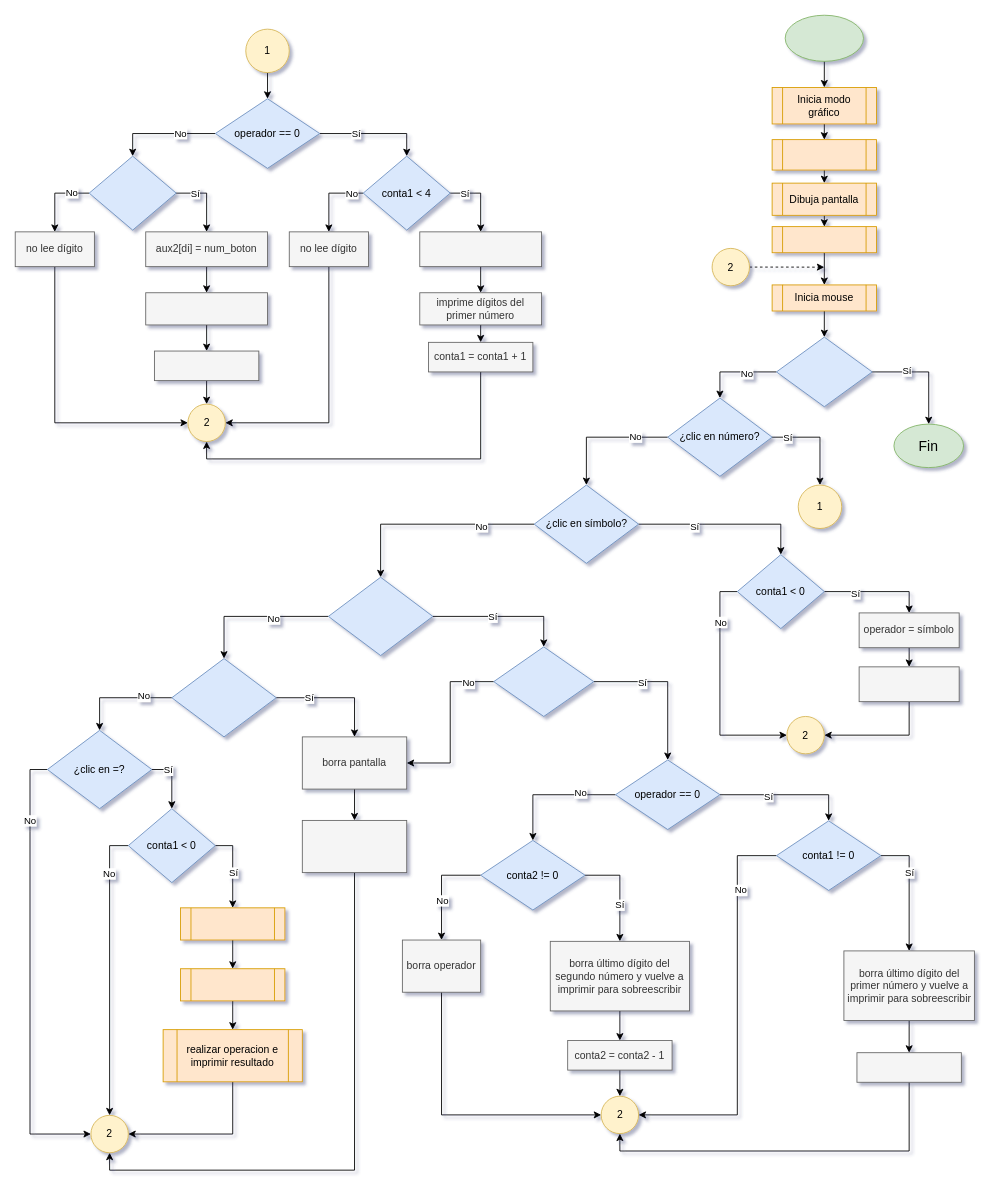
This 995x1198 diagram has some shape labels left out. Each missing label, with the box of its shape:
aux1[di] = num_boton: (419, 231, 542, 267)
conta1 = conta1 - 1: (856, 1052, 961, 1082)
conta2 != 4: (493, 646, 594, 716)
conta2 < 4: (88, 155, 176, 230)
conta2 = conta2 + 1: (154, 350, 259, 381)
Dibuja botones: (771, 226, 877, 253)
Dibuja marco: (771, 139, 877, 170)
imprime dígitos del segundo número: (145, 292, 268, 325)
imprime operador: (858, 666, 959, 702)
inicializa variables y contadores en 0: (301, 820, 407, 873)
Inicio: (784, 14, 863, 61)
Procesar num1: (180, 907, 285, 940)
Procesar num2: (180, 968, 285, 1001)
¿clic en AC?: (171, 658, 276, 737)
¿clic en DEL?: (328, 576, 433, 656)
¿clic en X?: (776, 336, 872, 407)
